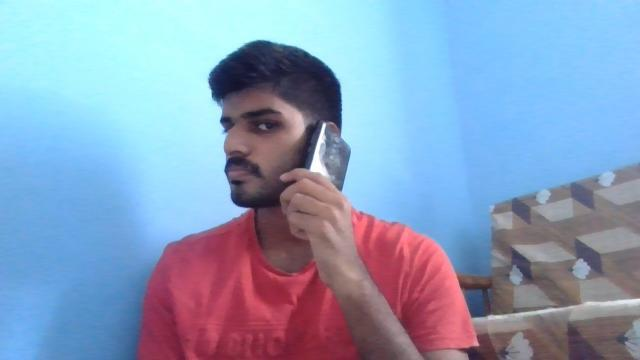PhoneUse: (313, 120, 352, 232)
SafeDriving: (245, 112, 288, 135)
